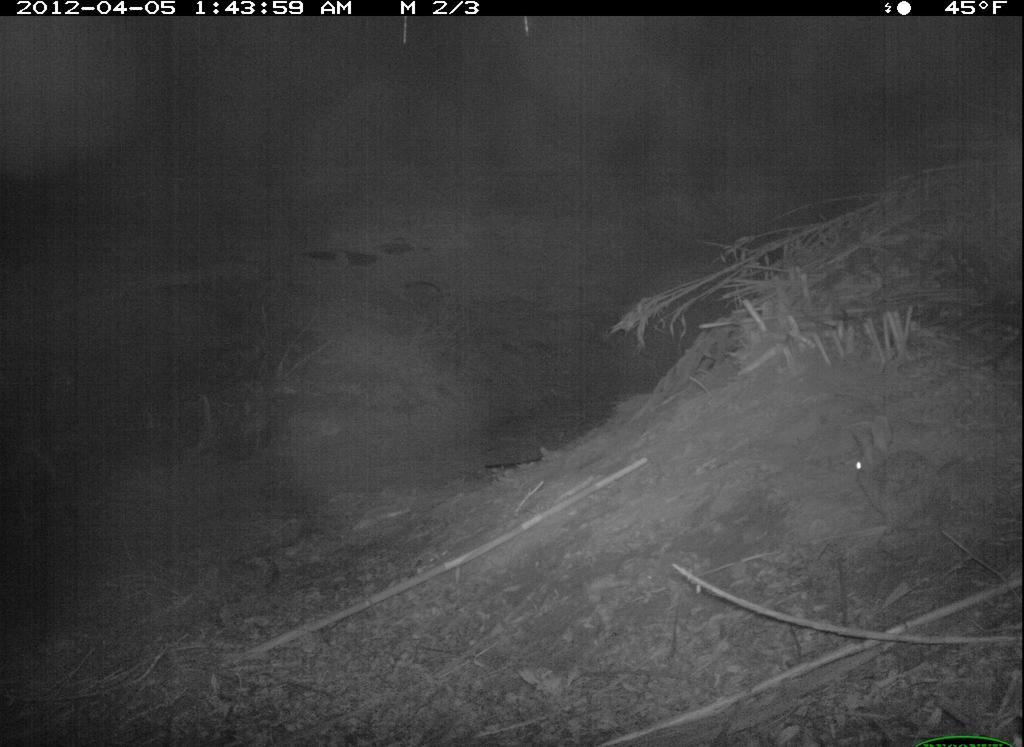rabbit: (841, 418, 963, 545)
